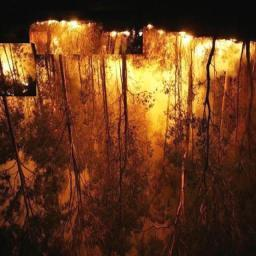Medium fire: (0, 18, 256, 129)
